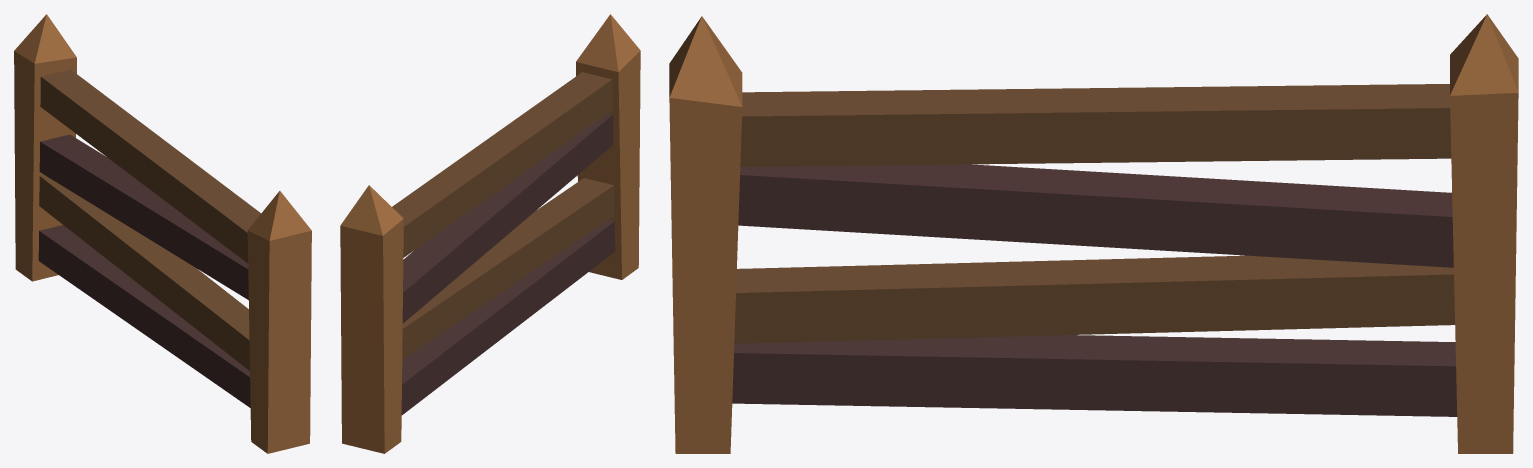
The model's file is purta.fbx.
The picture shows the model from 3 angles, left to right: view 1: azimuth 30°, elevation 25°; view 2: azimuth 150°, elevation 25°; view 3: azimuth 270°, elevation 25°; orthographic projection. The views are drawn at different scales.
Visible parts, largest first — view 1: Cube; view 2: Cube; view 3: Cube.
Part boxes in pixels (left/top/right/bottom): Cube: left=14, top=14, right=311, bottom=453; Cube: left=340, top=14, right=640, bottom=453; Cube: left=669, top=14, right=1518, bottom=453.
Bounding box in the file's own units: 39.68 × 229 × 415.
